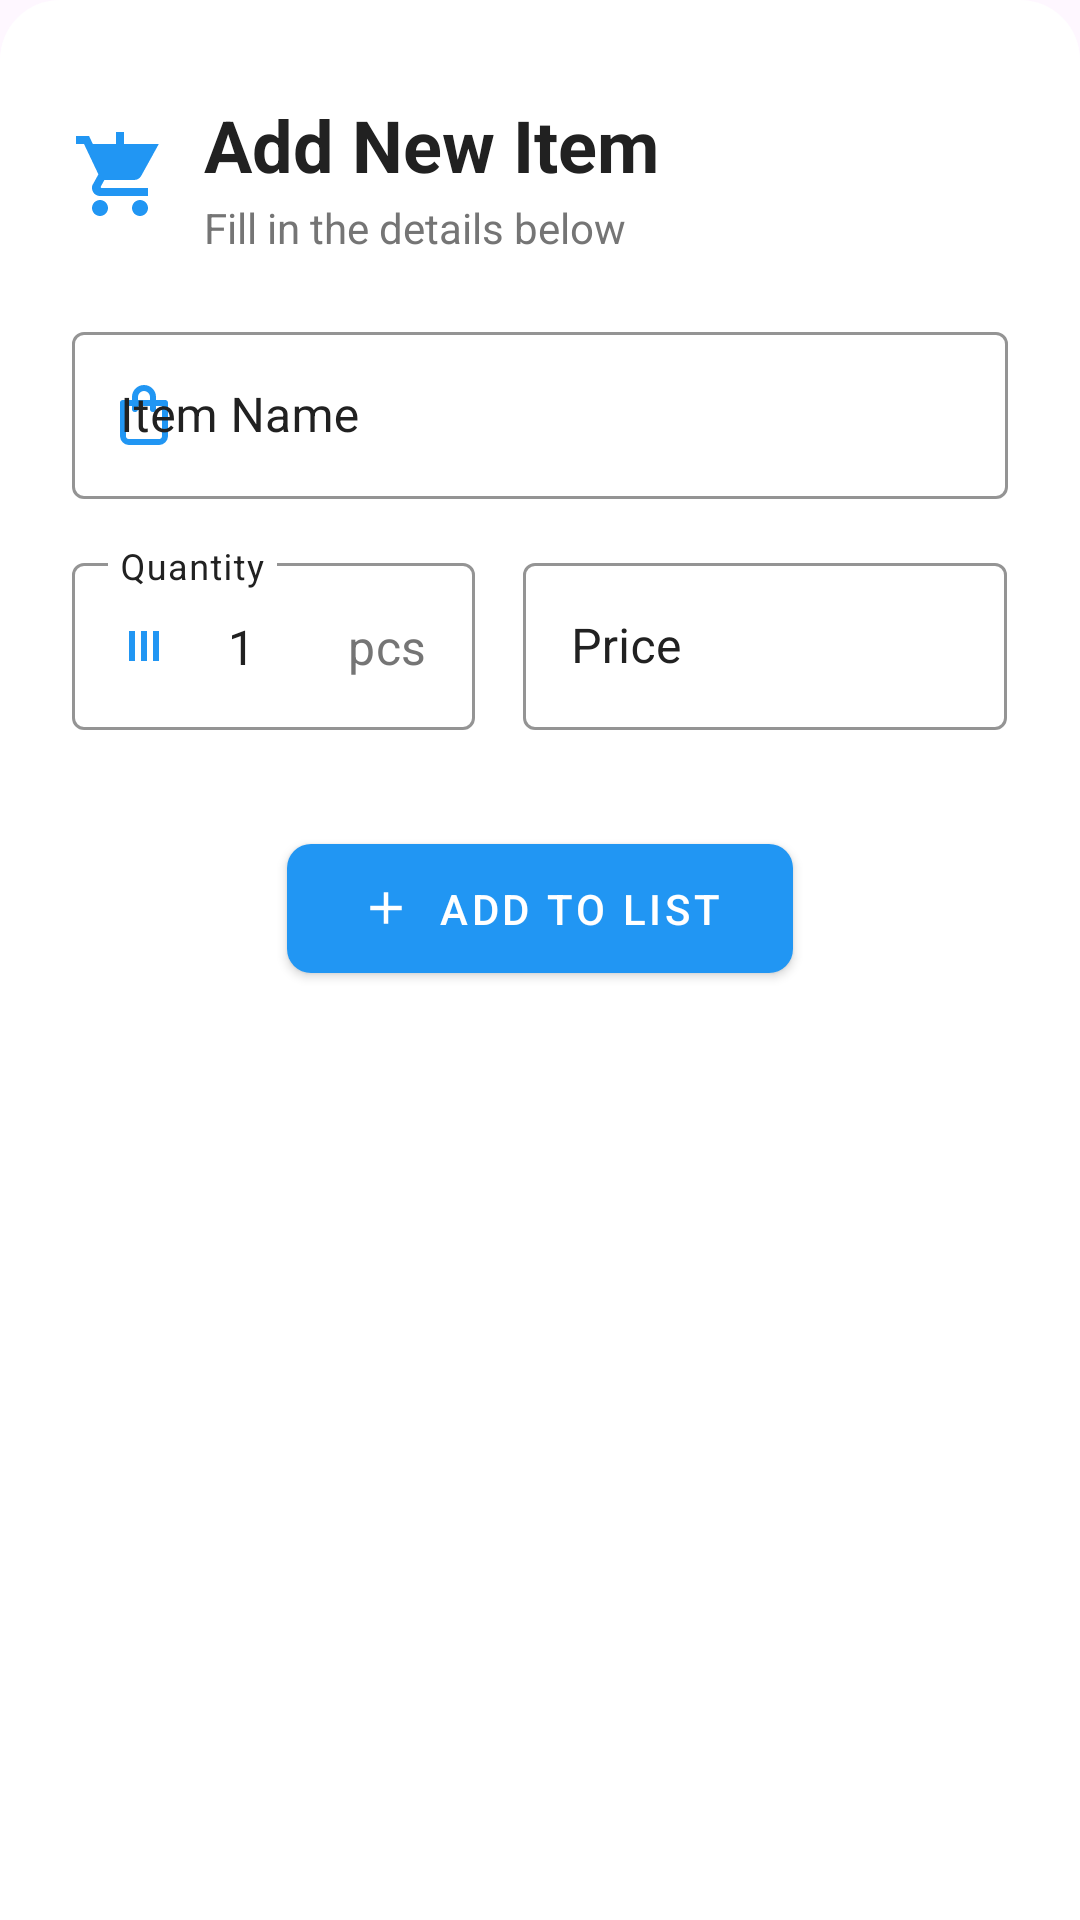

Locate icon controls on the screen. Image size 1080px x 1920px, boxes as {"left": x1, "top": y1, "right": x2, "bottom": y2}.
add shopping cart: {"left": 76, "top": 132, "right": 159, "bottom": 216}
